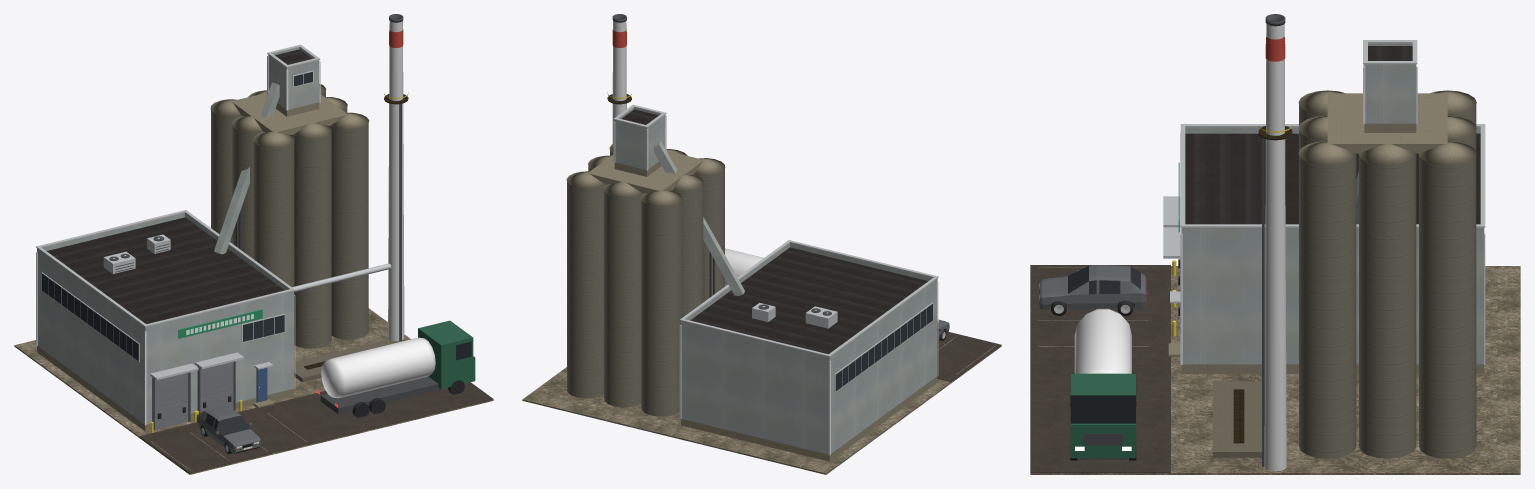
Rendered from plant_food.glb.
The picture shows the model from 3 angles, left to right: view 1: azimuth 30°, elevation 25°; view 2: azimuth 150°, elevation 25°; view 3: azimuth 270°, elevation 25°; orthographic projection. The views are drawn at different scales.
Visible parts, largest first — view 1: plant_food_body; view 2: plant_food_body; view 3: plant_food_body.
Part boxes in pixels (x1,y1,x2,y2): plant_food_body: [14, 14, 493, 474]; plant_food_body: [522, 14, 1001, 474]; plant_food_body: [1030, 14, 1520, 474].
Bounding box in the file's own units: 0.943 × 0.952 × 0.94.
32 materials, 12 textured.
